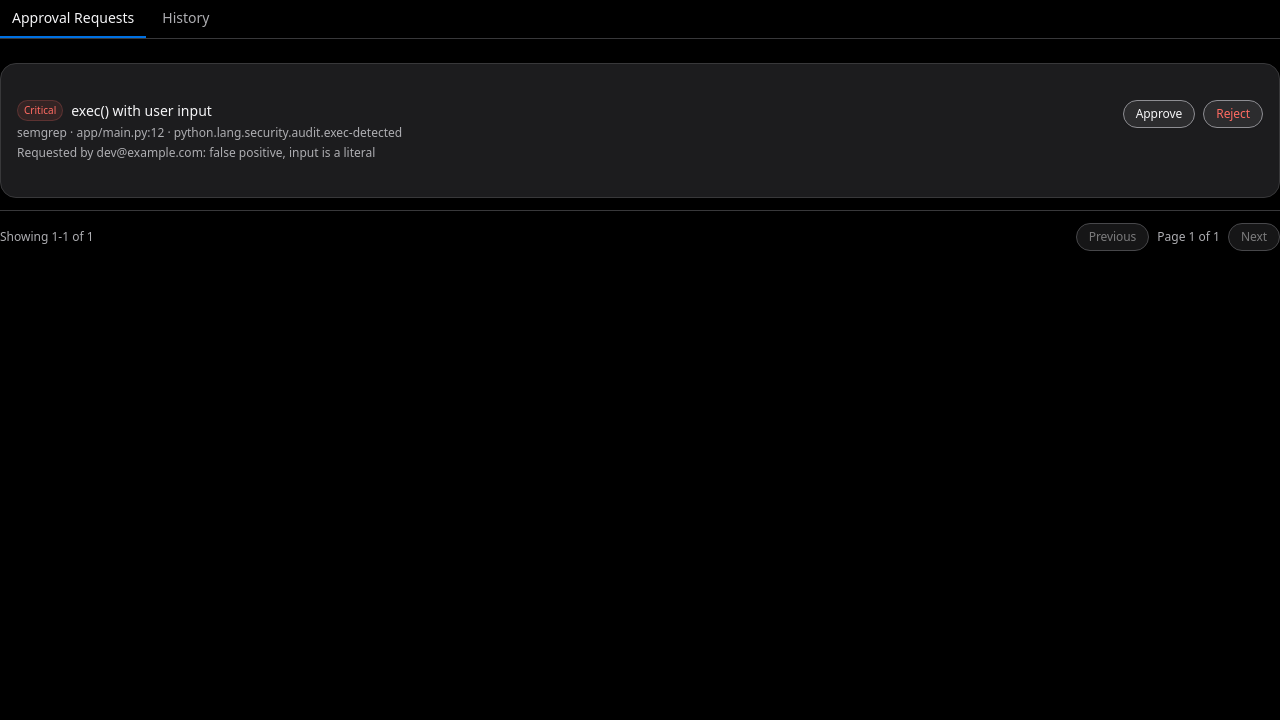
ApprovalQueue › does not approve on a single click
What coordinates should you click on to do the following:
click the button "Approve"
I would click on:
 (1159, 114)
Its box is [1123, 100, 1195, 128].
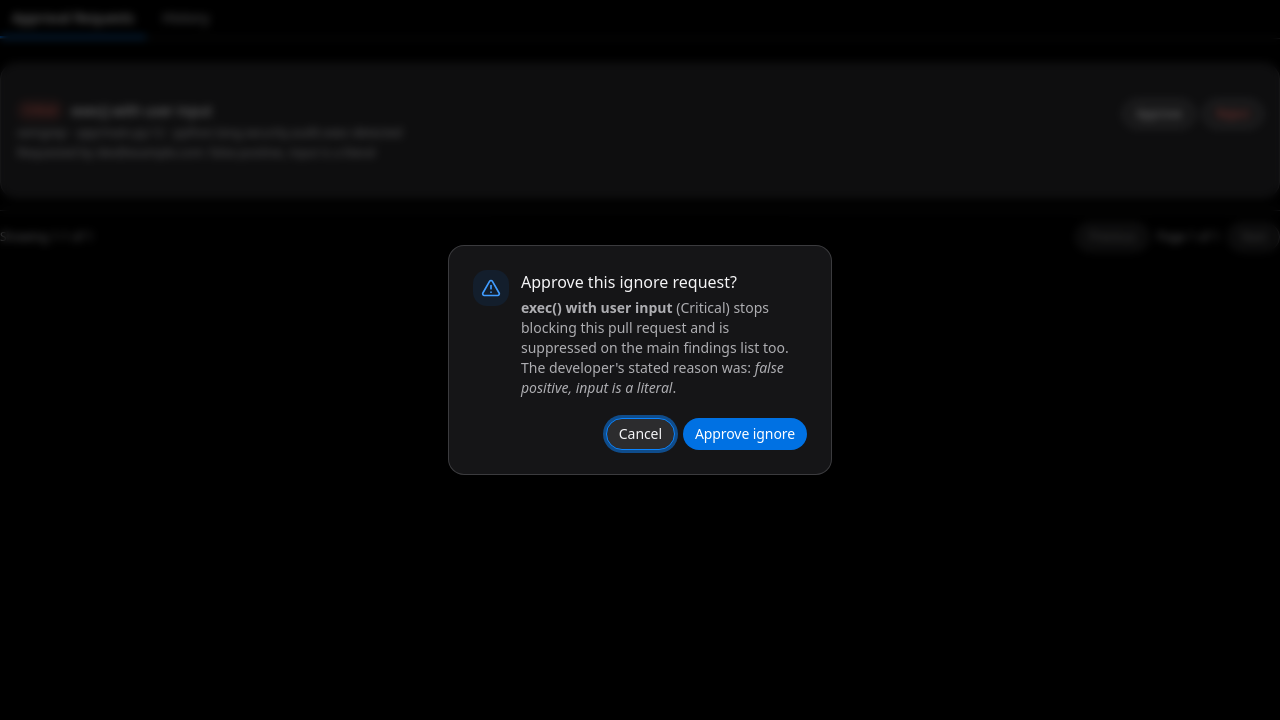
Expected: the text "stops blocking this pull request" is shown, [521, 298, 789, 377]
